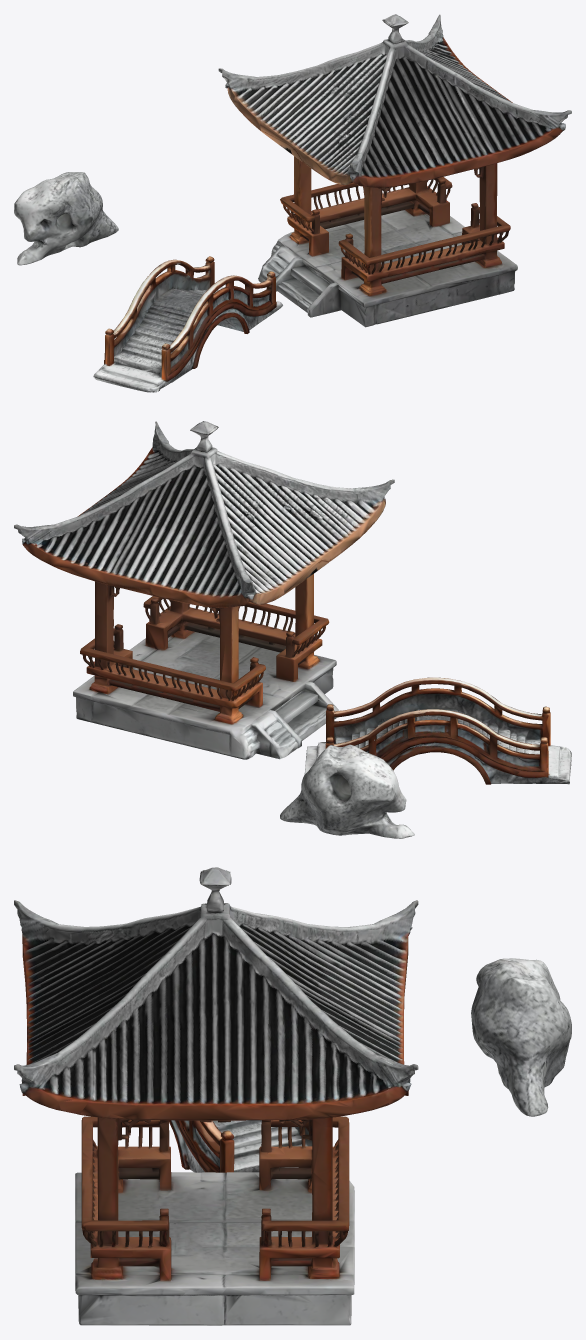
The model's file is autumn_bridgepavilion.glb.
The picture shows the model from 3 angles, top to bottom: view 1: azimuth 30°, elevation 25°; view 2: azimuth 150°, elevation 25°; view 3: azimuth 270°, elevation 25°; orthographic projection. The views are drawn at different scales.
Visible parts, largest first — view 1: tripo_node_b22b63f0-dfba-4c26-ab09-dda44e719f55; view 2: tripo_node_b22b63f0-dfba-4c26-ab09-dda44e719f55; view 3: tripo_node_b22b63f0-dfba-4c26-ab09-dda44e719f55.
Boxes of the visible parts, x1=… form: tripo_node_b22b63f0-dfba-4c26-ab09-dda44e719f55: x1=14, y1=14, x2=571, y2=392; tripo_node_b22b63f0-dfba-4c26-ab09-dda44e719f55: x1=14, y1=421, x2=571, y2=838; tripo_node_b22b63f0-dfba-4c26-ab09-dda44e719f55: x1=14, y1=867, x2=571, y2=1325.
Size of the model in its own units: 0.9801 by 0.592 by 0.7154.
1 material, 1 textured.
